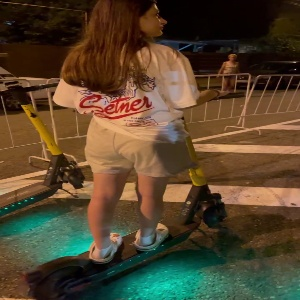human on a scooter: (17, 1, 245, 300)
